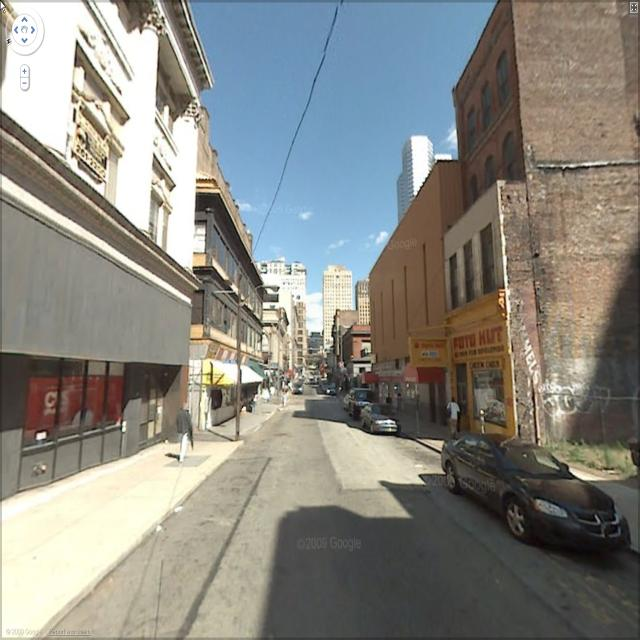b_1: (2, 1, 180, 453), (453, 4, 640, 431), (374, 165, 466, 396), (195, 127, 271, 398), (386, 123, 460, 230), (270, 264, 316, 378), (321, 259, 359, 342), (334, 315, 373, 377), (356, 274, 380, 334)
